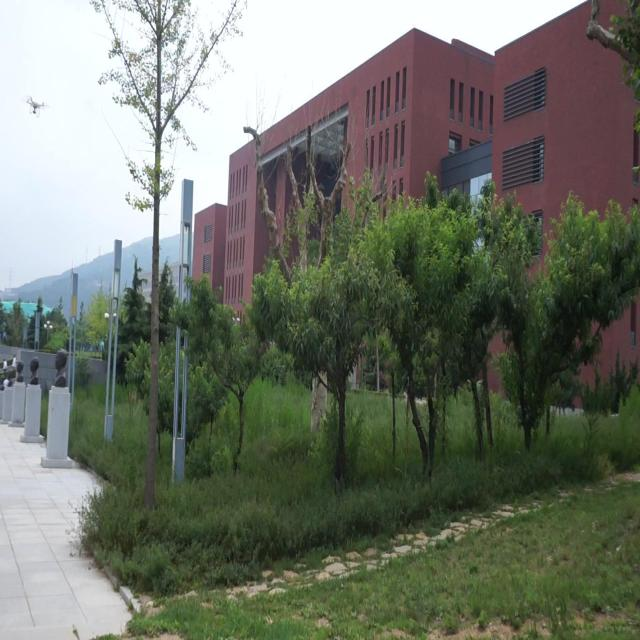drone: (20, 91, 50, 119)
